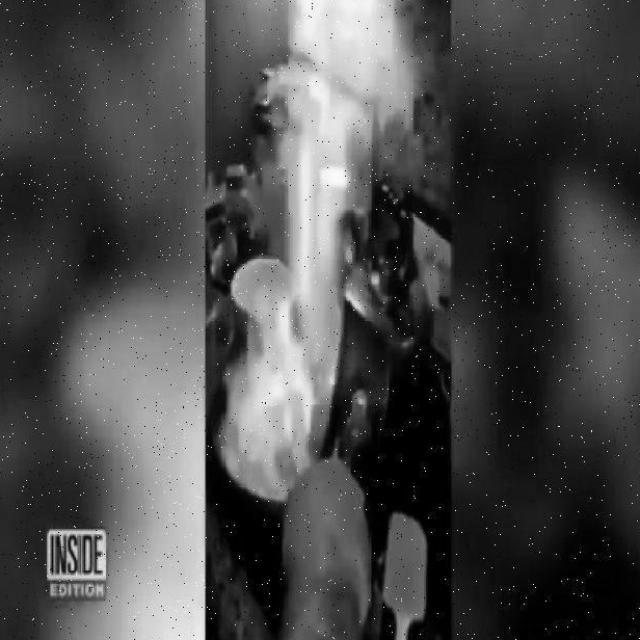smoke: (216, 66, 345, 505)
